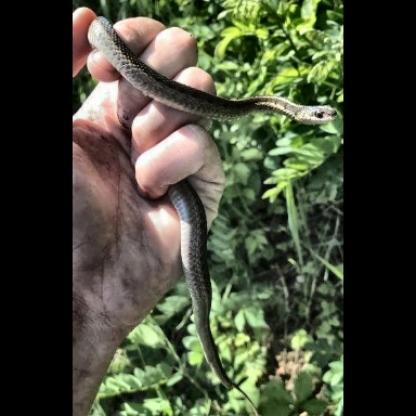Snake: (83, 13, 346, 140)
